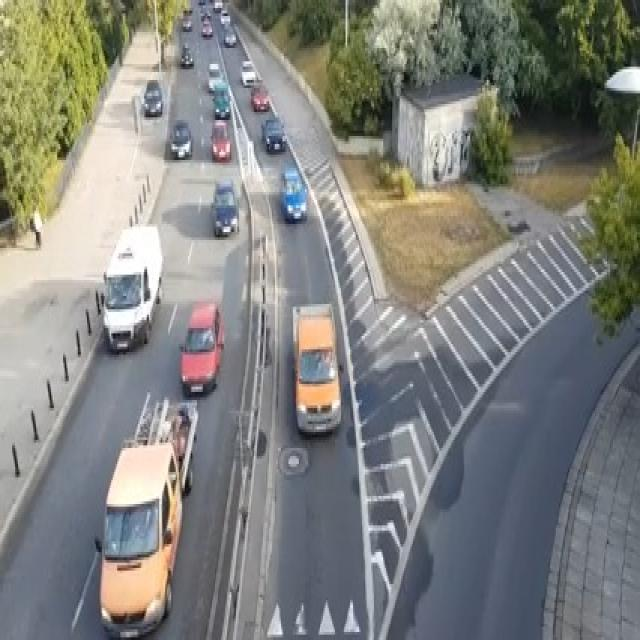bus: (96, 438, 183, 638), (101, 221, 162, 352), (291, 301, 341, 435)
car: (126, 392, 198, 493), (179, 298, 224, 394), (210, 176, 239, 237), (280, 166, 306, 222), (210, 120, 232, 160), (260, 117, 285, 152), (170, 120, 192, 157), (143, 77, 162, 115), (249, 83, 269, 109), (212, 91, 230, 117), (207, 61, 221, 91), (240, 59, 256, 85), (180, 42, 194, 66), (224, 27, 236, 45), (201, 19, 212, 37), (219, 8, 230, 24), (181, 0, 192, 13), (182, 16, 191, 29), (214, 0, 222, 11), (197, 0, 206, 3)
